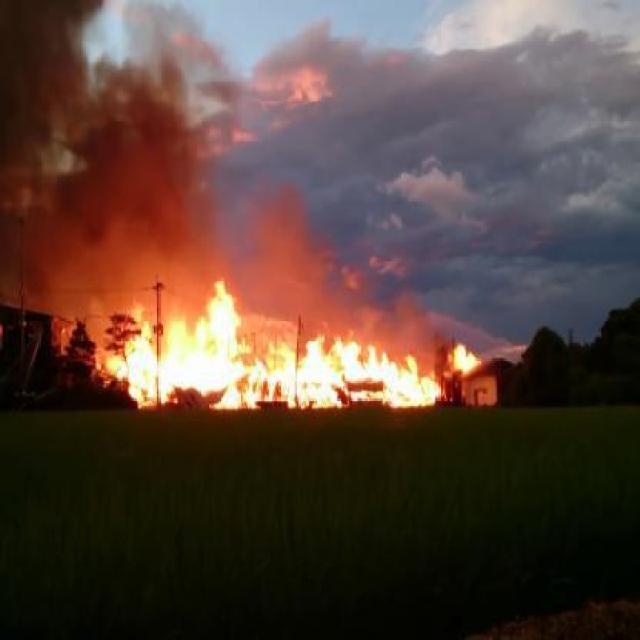Fire: (97, 276, 445, 407), (448, 338, 478, 376)
